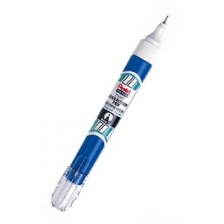correction_fluid: (49, 13, 171, 213)
